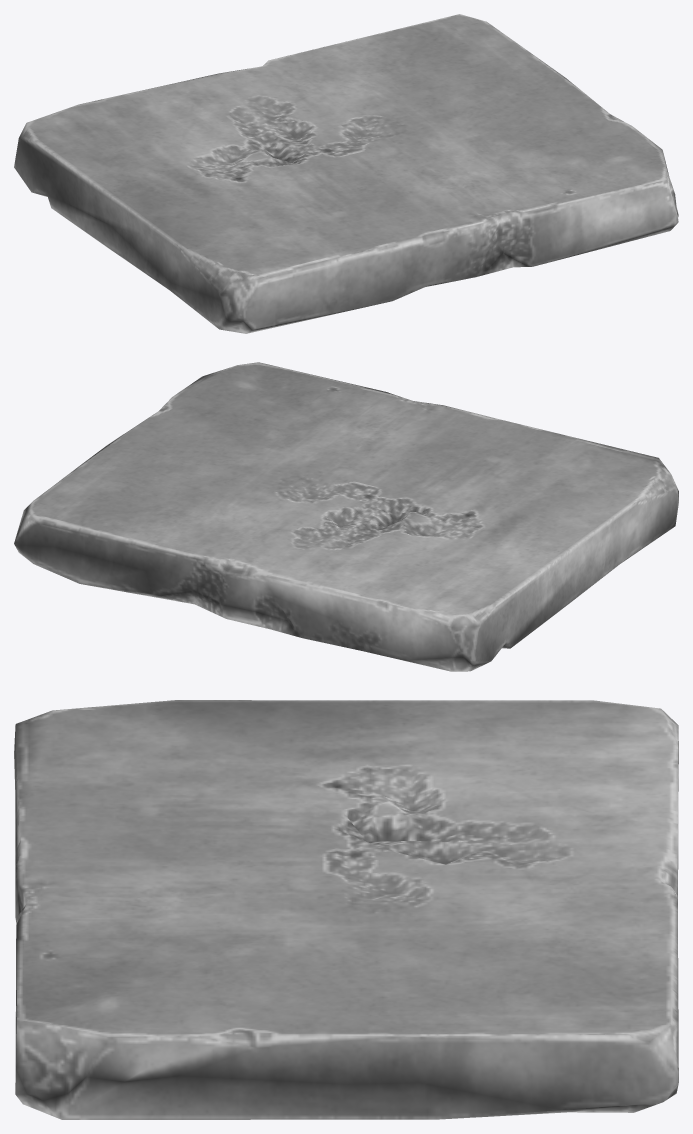
File: SM_TempleTrimMid_Ledge_1.fbx
The picture shows the model from 3 angles, top to bottom: view 1: azimuth 30°, elevation 25°; view 2: azimuth 150°, elevation 25°; view 3: azimuth 270°, elevation 25°; orthographic projection. The views are drawn at different scales.
Visible parts, largest first — view 1: SM_TempleTrimMid_Ledge1_LOD0; view 2: SM_TempleTrimMid_Ledge1_LOD0; view 3: SM_TempleTrimMid_Ledge1_LOD0.
Boxes of the visible parts, x1,y1,x2,y2 form: SM_TempleTrimMid_Ledge1_LOD0: (14,14,678,333); SM_TempleTrimMid_Ledge1_LOD0: (14,362,678,671); SM_TempleTrimMid_Ledge1_LOD0: (14,700,678,1119).
Size of what is drawn, in the model's own units: 200 by 23.14 by 167.
Materials: 1 (1 with a texture image).
